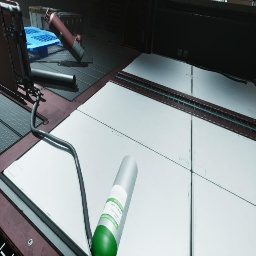0: (91, 155, 138, 256)
FirstAidBox ,: (73, 31, 82, 47)
NitrogenTank ,: (45, 8, 84, 64)
